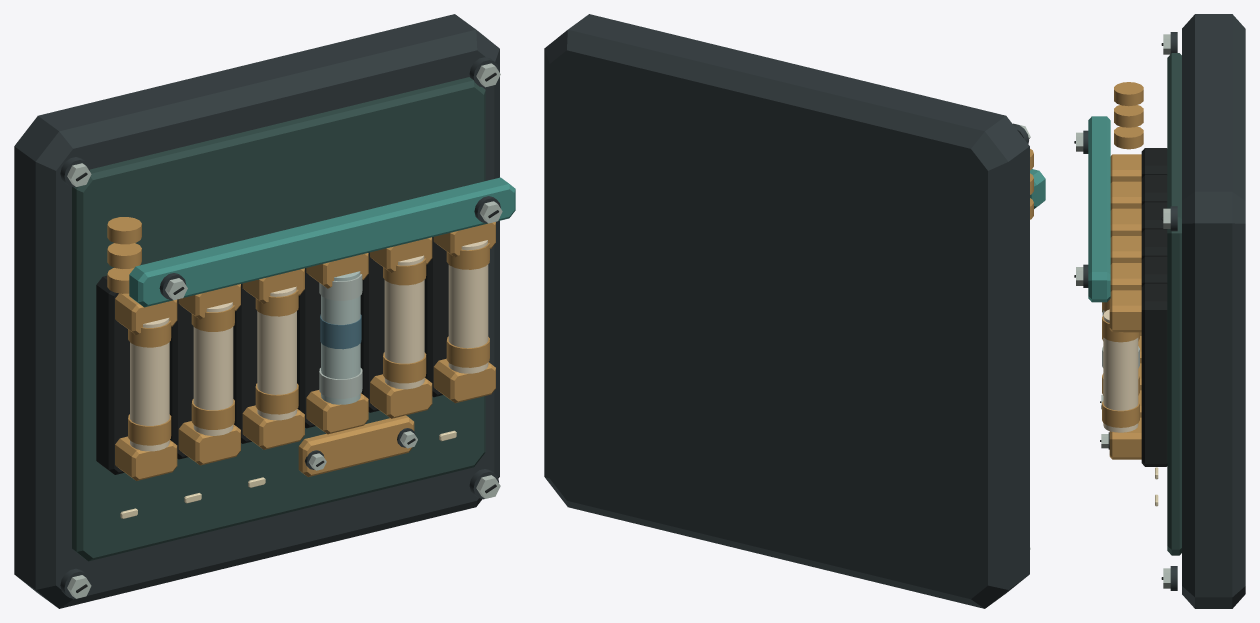
File: fuse-repaired.glb
3 renders of one model, left to right at view 1: azimuth 30°, elevation 25°; view 2: azimuth 150°, elevation 25°; view 3: azimuth 270°, elevation 25°, orthographic. The views are drawn at different scales.
Visible parts, largest first — view 1: RB_fuse_repaired; view 2: RB_fuse_repaired; view 3: RB_fuse_repaired.
Part boxes in pixels (x1,y1,x2,y2): RB_fuse_repaired: [14, 14, 515, 608]; RB_fuse_repaired: [544, 14, 1045, 608]; RB_fuse_repaired: [1074, 14, 1245, 608].
Bounding box in the file's own units: 0.59 × 0.58 × 0.2155.
